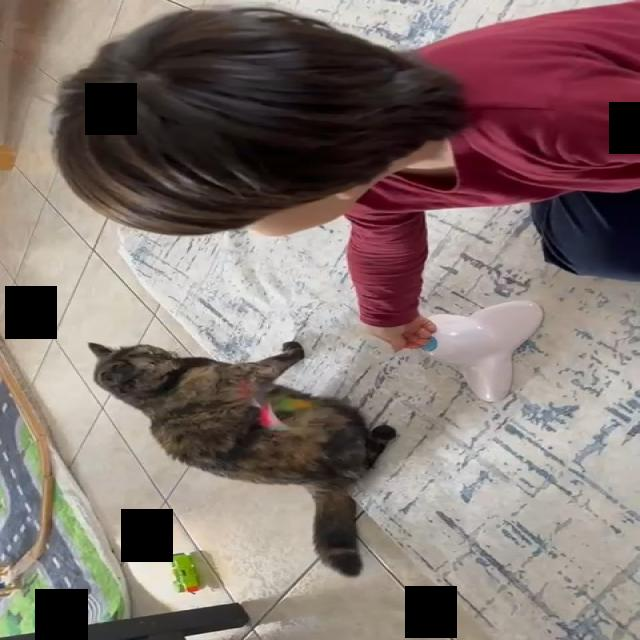authorized: (87, 339, 397, 576)
